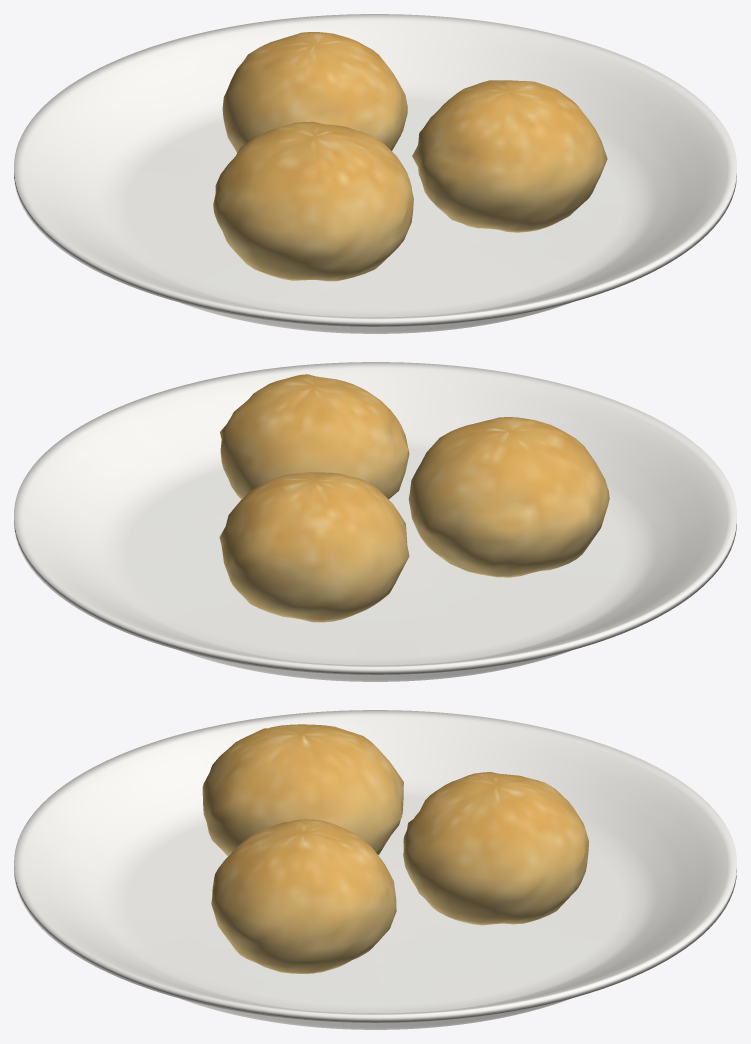
File: pao-de-queijo-3.glb
The picture shows the model from 3 angles, top to bottom: view 1: azimuth 30°, elevation 25°; view 2: azimuth 150°, elevation 25°; view 3: azimuth 270°, elevation 25°; orthographic projection.
Parts seen in each view (by area): view 1: ceramic, satin; view 2: ceramic, satin; view 3: ceramic, satin.
Boxes of the visible parts, x1,y1,x2,y2 form: ceramic: (14,14,736,333); satin: (213,32,607,281); ceramic: (14,362,736,681); satin: (219,374,609,622); ceramic: (14,710,736,1029); satin: (202,724,588,973).
Size of the model in its own units: 0.18 by 0.0386 by 0.18.
2 materials, 2 textured.
